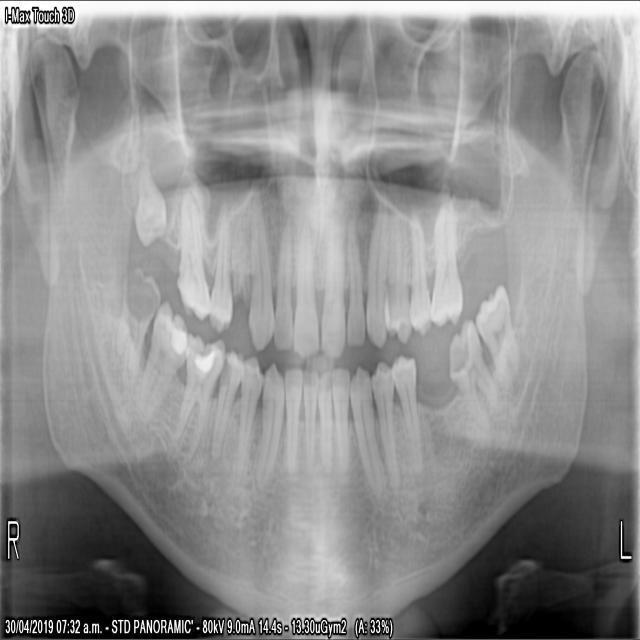LCD: (346, 358, 385, 493)
LCU: (364, 209, 388, 352)
LID: (332, 362, 350, 462), (316, 365, 332, 464)
LIU: (317, 212, 346, 360), (342, 214, 365, 350)
LMD: (444, 306, 508, 435), (473, 277, 524, 406)
LMU: (428, 202, 464, 329)
LPMD: (367, 359, 402, 488), (390, 346, 426, 470)
LPMU: (384, 214, 409, 342), (407, 209, 430, 335)
RCD: (254, 357, 283, 481)
RCU: (245, 197, 274, 351)
RID: (281, 361, 301, 458), (302, 365, 316, 464)
RIU: (291, 204, 320, 365), (271, 204, 293, 352)
RMD: (169, 324, 226, 453), (136, 291, 188, 412), (110, 261, 162, 370)
RMU: (132, 169, 165, 246)
RPMD: (206, 345, 243, 464), (236, 352, 261, 445)
RPMU: (175, 196, 211, 322), (208, 199, 232, 334), (229, 204, 249, 309)
